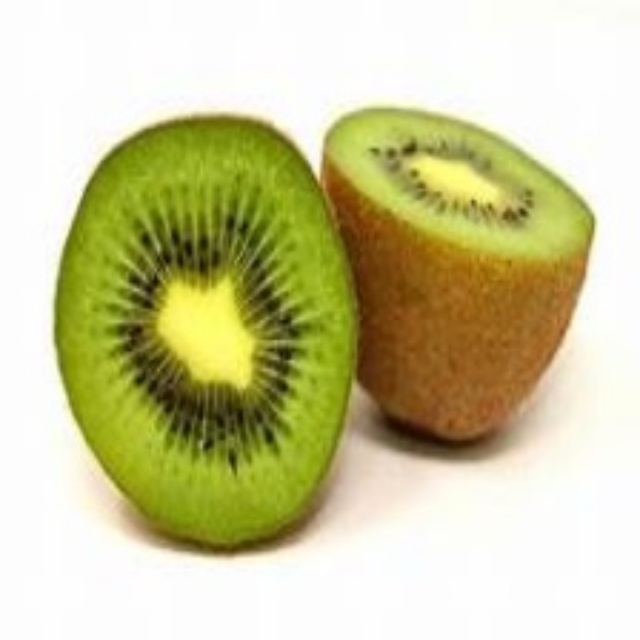kiwi: (55, 115, 355, 554), (312, 108, 582, 448)
